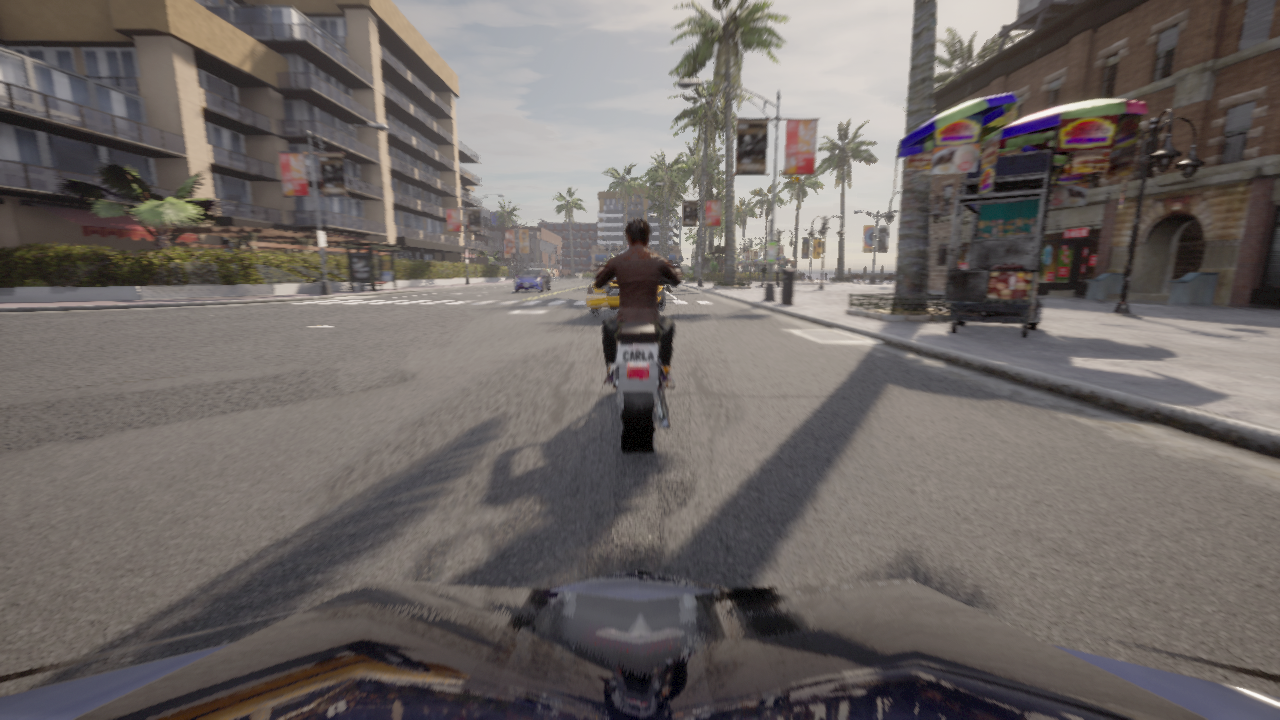cyclist: (0, 569, 1279, 719), (593, 264, 683, 452), (585, 276, 663, 316), (513, 269, 551, 292), (618, 249, 651, 254), (759, 276, 761, 280), (738, 275, 739, 279)
pedestrian: (760, 264, 767, 286)
